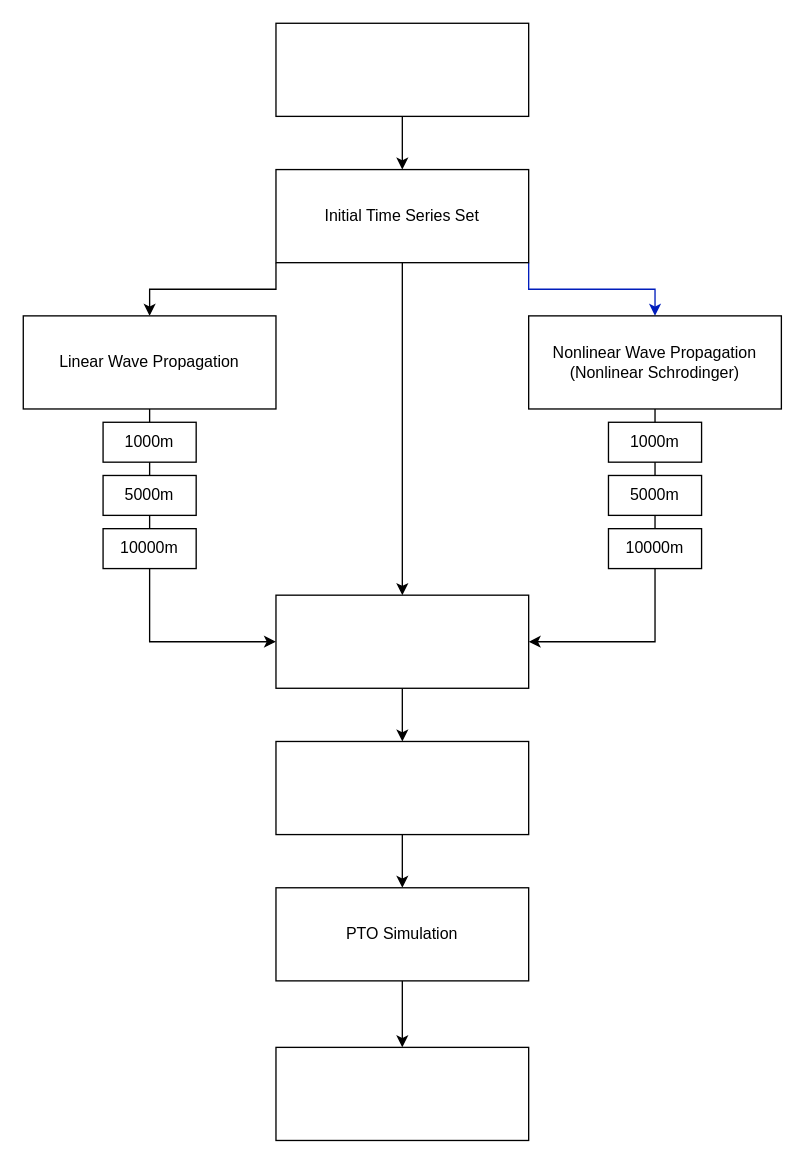
Image size: 805x1164. Some labels were removed from this diagram. The box of each missing label's shape, as (x1, y1, x2, y2) in pixels:
Modeled WEC Dynamic Response (LUPA): (275, 740, 529, 835)
Raw North Sea Data Processing and Analysis: (275, 22, 529, 116)
Simulation Output and Analysis: (275, 1046, 529, 1140)
WEC-Sim Input Time Series: (275, 594, 529, 688)
